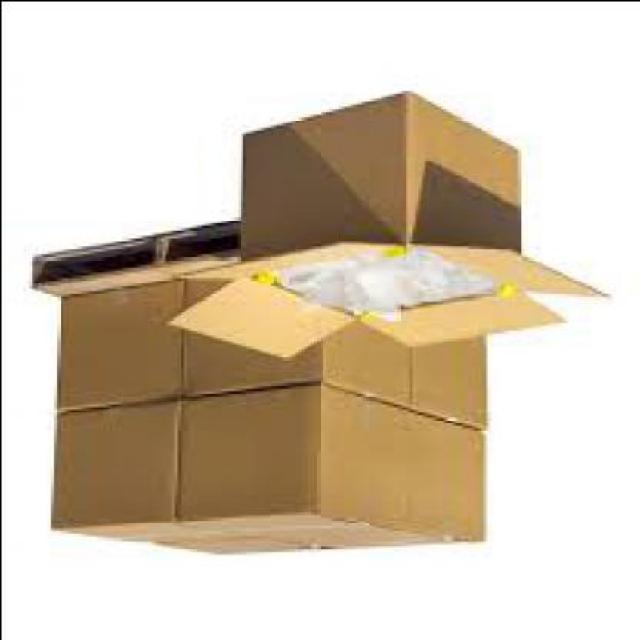CARDBOARD: (166, 94, 612, 360), (59, 387, 492, 553), (59, 274, 486, 432)
